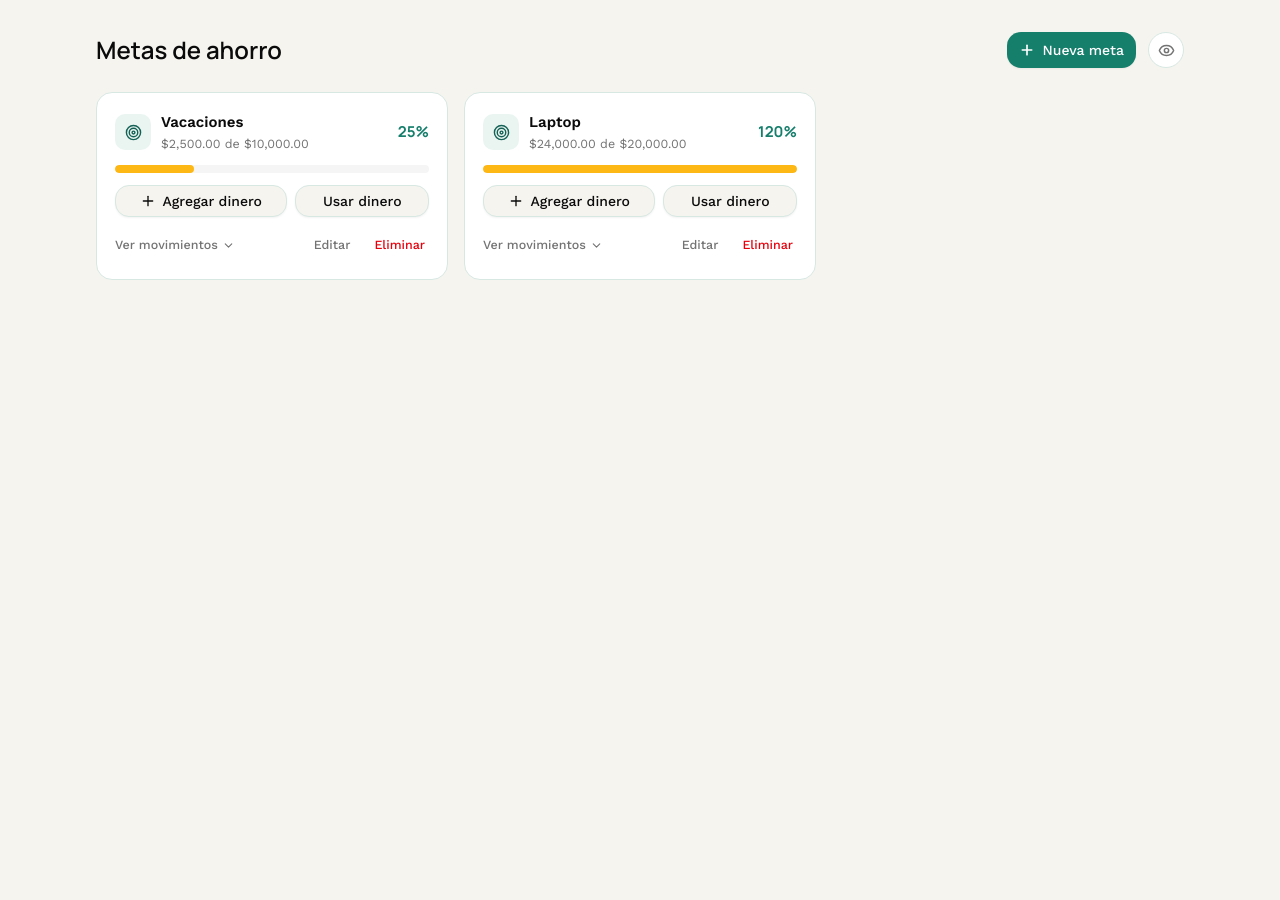
Metas — crear una meta › si el servidor rechaza la meta, la hoja sigue abierta y dice por qué
The width and height of the screenshot is (1280, 900).
expect the text "Vacaciones" is shown: met, box [161, 113, 243, 131]
Click the button "Nueva meta" at (1071, 50), box [1006, 32, 1136, 68]
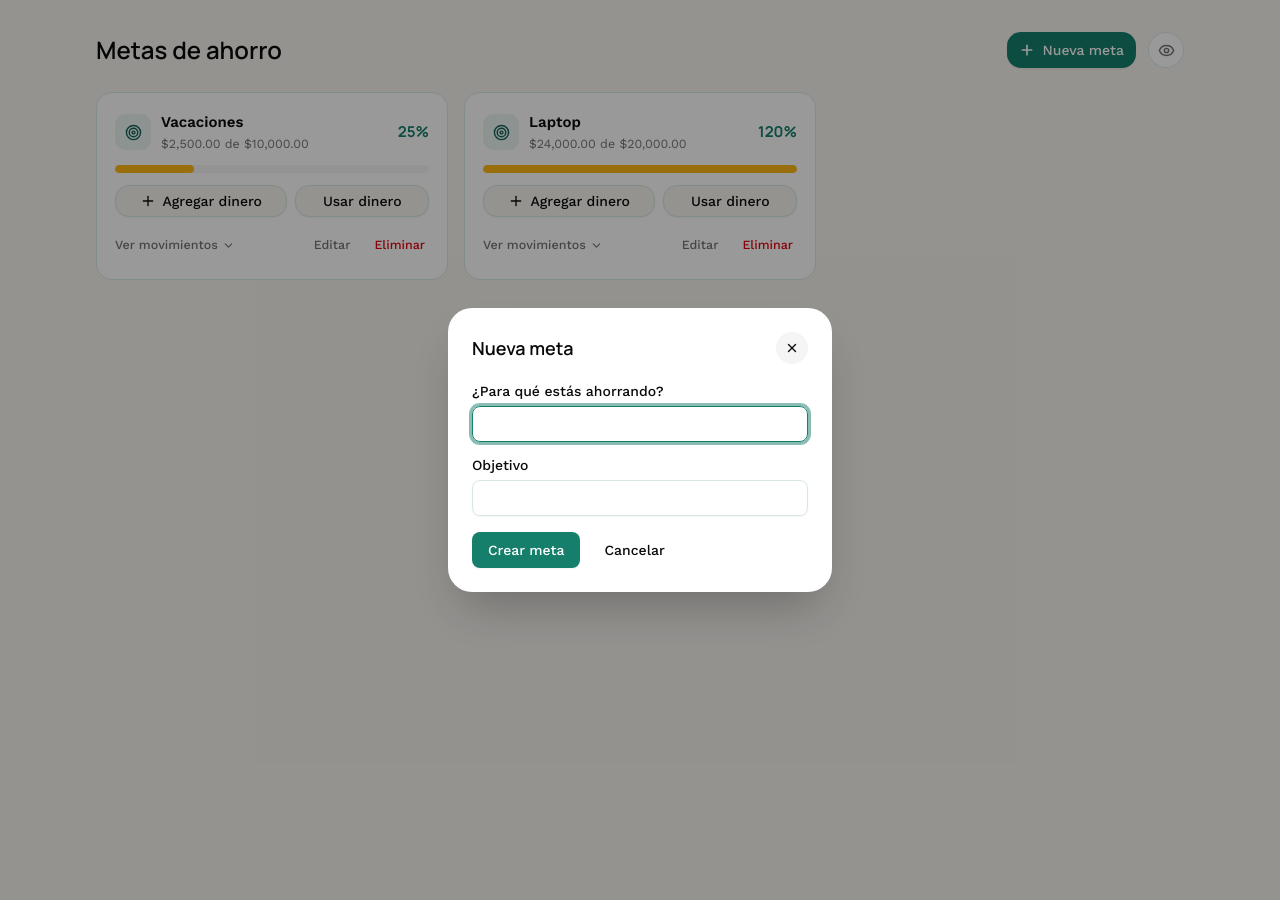
Type "Moto" into the field labelled "¿Para qué estás ahorrando?" at (640, 424), box [472, 406, 808, 442]
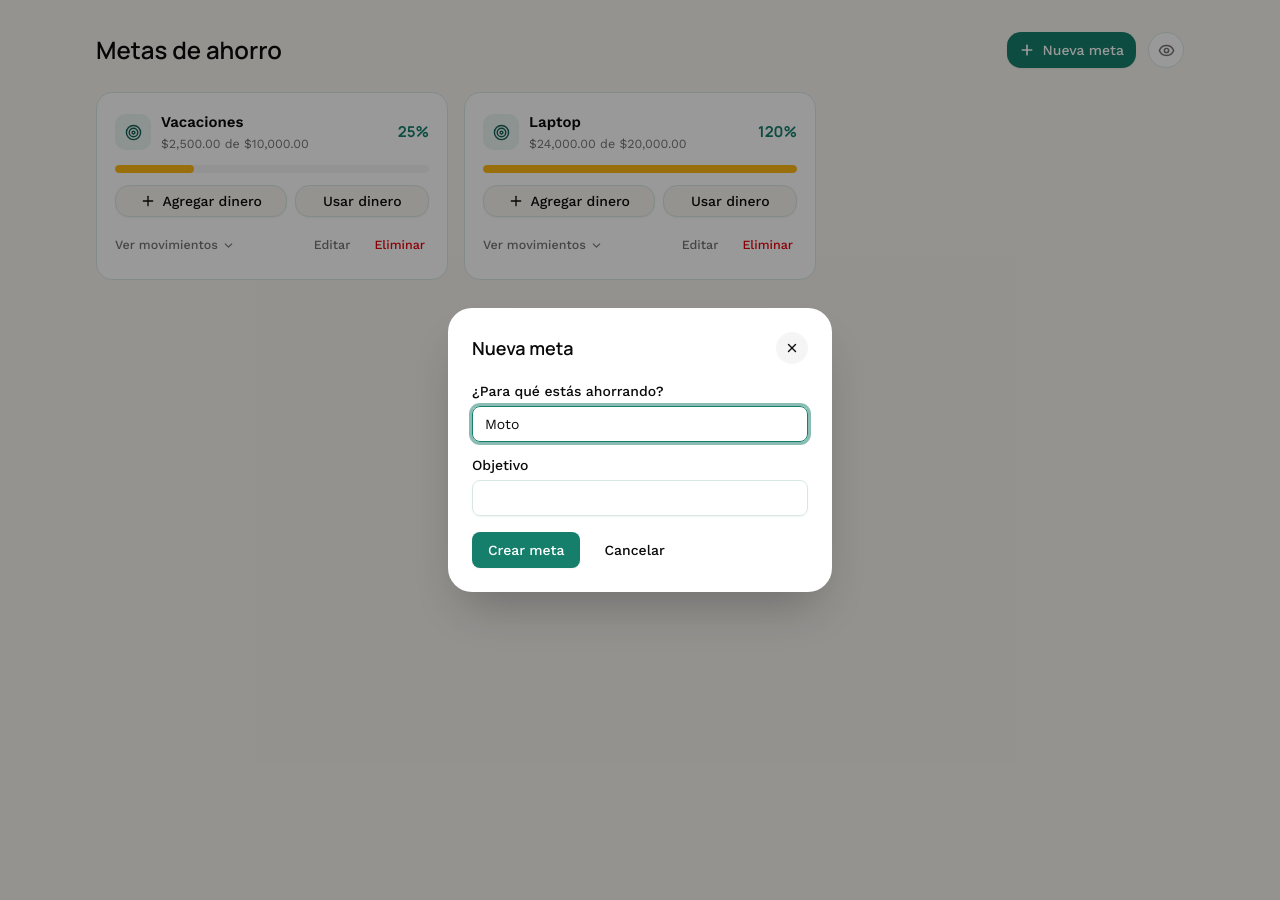
Type "50000" into the number field labelled "Objetivo" at (640, 498), box [472, 480, 808, 516]
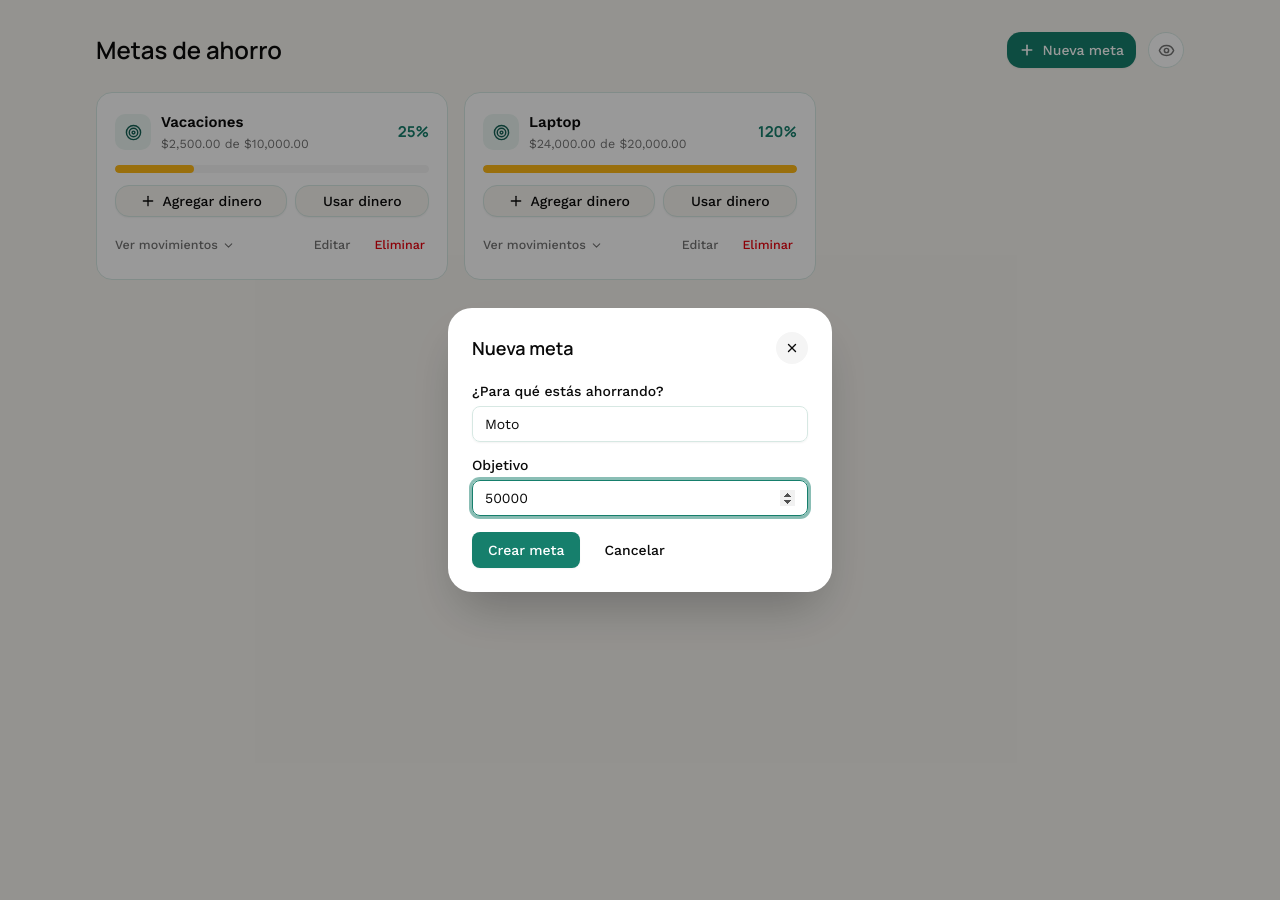
Click the button "Crear meta" at (526, 550), box [472, 532, 580, 568]
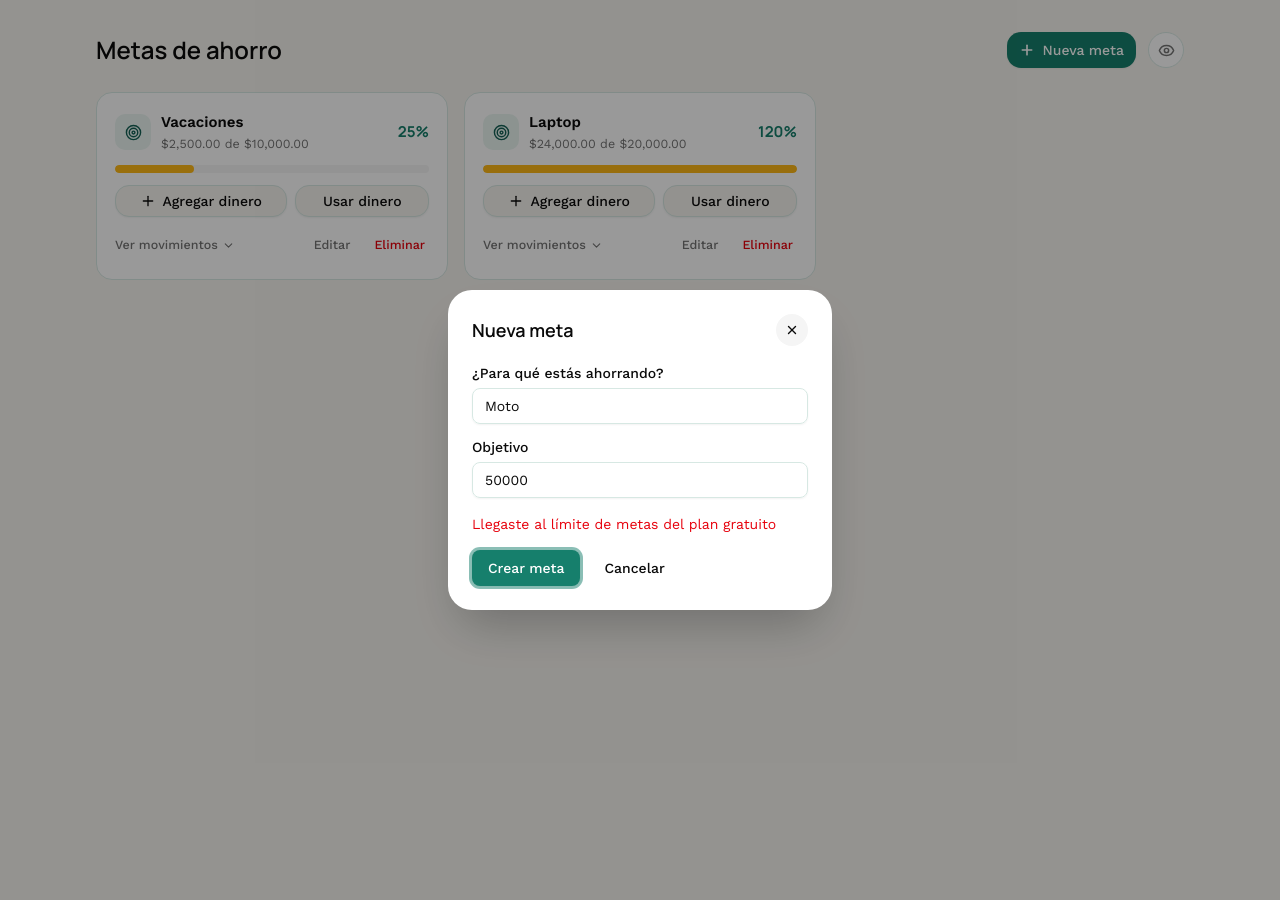
expect the dialog "Nueva meta" is shown: met, box [448, 290, 832, 610]
expect the text "Llegaste al límite de metas del plan gratuito" is shown: met, box [472, 514, 808, 534]
